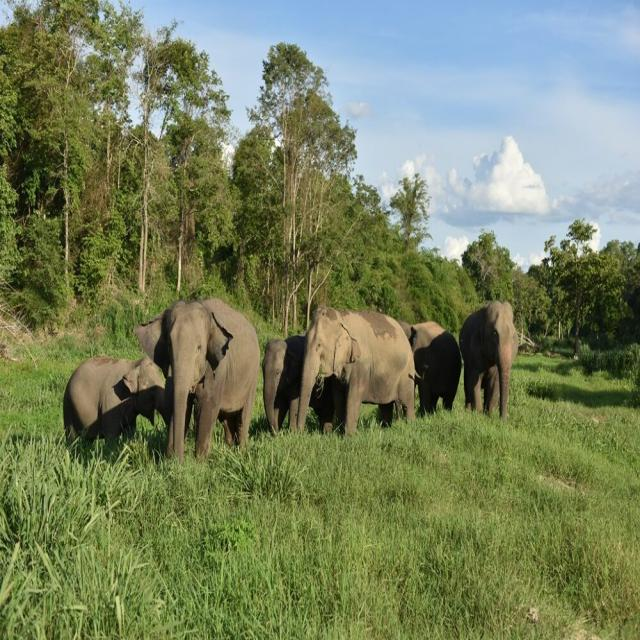Elephant: (136, 283, 260, 467), (303, 292, 419, 452), (48, 324, 160, 460), (455, 293, 537, 431), (403, 314, 466, 428), (263, 322, 304, 448)
